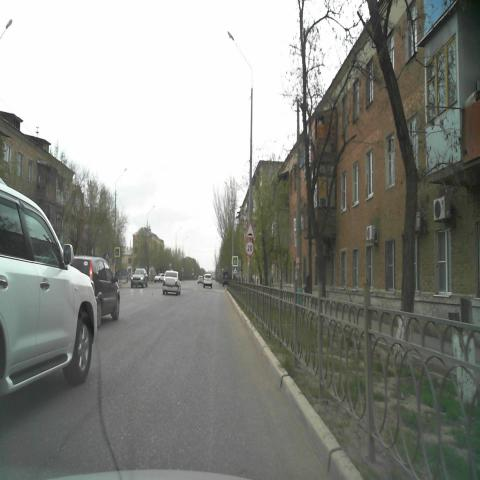1_17: (246, 222, 255, 238)
